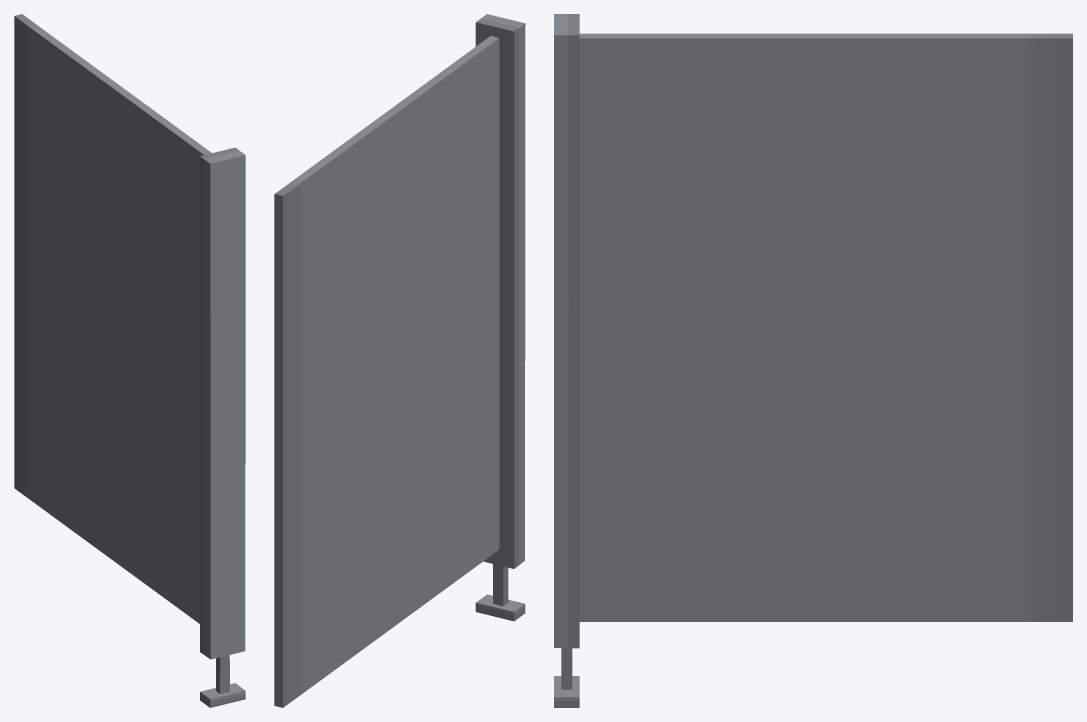
Rendered from SM_Prop_Cubical_01_Divider_01.obj.
3 renders of one model, left to right at view 1: azimuth 30°, elevation 25°; view 2: azimuth 150°, elevation 25°; view 3: azimuth 270°, elevation 25°, orthographic. The views are drawn at different scales.
Visible parts, largest first — view 1: SM_Prop_Cubical_01_Divider_01_0; view 2: SM_Prop_Cubical_01_Divider_01_0; view 3: SM_Prop_Cubical_01_Divider_01_0.
Boxes of the visible parts, left/top/right/bottom form: SM_Prop_Cubical_01_Divider_01_0: left=14, top=14, right=245, bottom=707; SM_Prop_Cubical_01_Divider_01_0: left=274, top=14, right=525, bottom=707; SM_Prop_Cubical_01_Divider_01_0: left=554, top=14, right=1072, bottom=707.
Bounding box in the file's own units: 0.15 × 2.2 × 1.54.
Materials: 1 (1 with a texture image).
